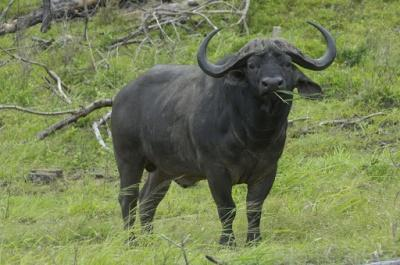buffalo: (109, 26, 336, 248)
